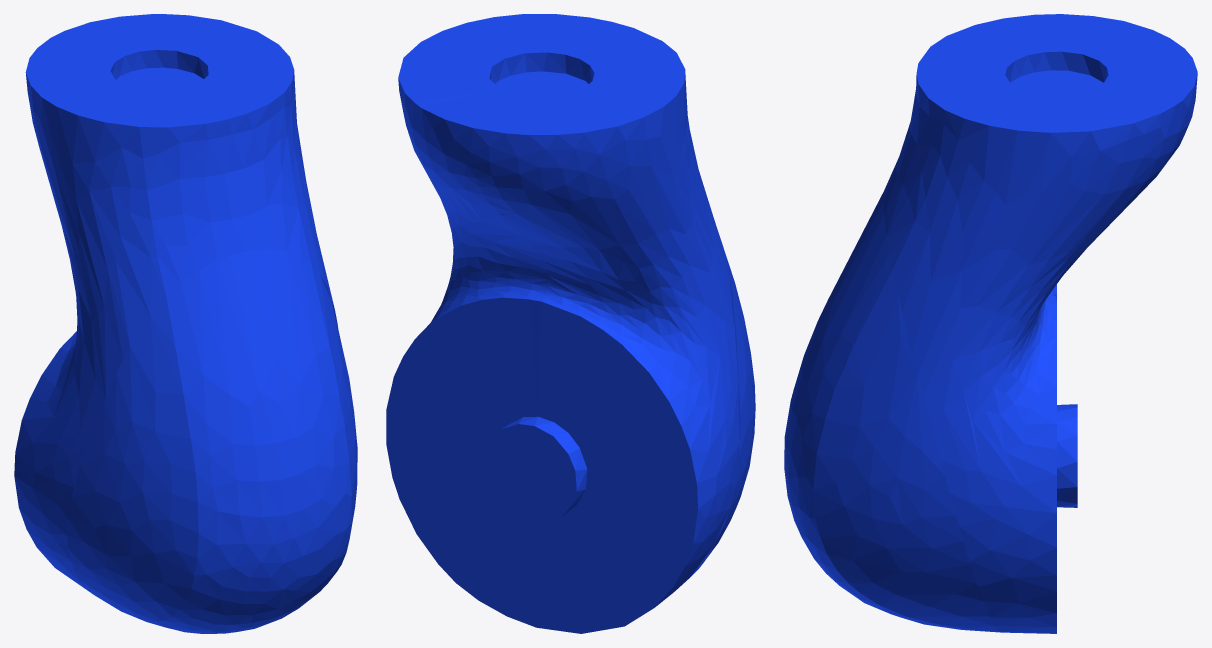
3 views of the same model, side by side, from view 1: azimuth 30°, elevation 25°; view 2: azimuth 150°, elevation 25°; view 3: azimuth 270°, elevation 25° (orthographic). The views are drawn at different scales.
Parts seen in each view (by area): view 1: Link_2; view 2: Link_2; view 3: Link_2.
Part boxes in pixels (x1,y1,x2,y2): Link_2: (14,14,357,633); Link_2: (386,14,755,633); Link_2: (784,14,1197,633).
Bounding box in the file's own units: 0.1708 × 0.2902 × 0.2003.
1 material, 1 textured.
